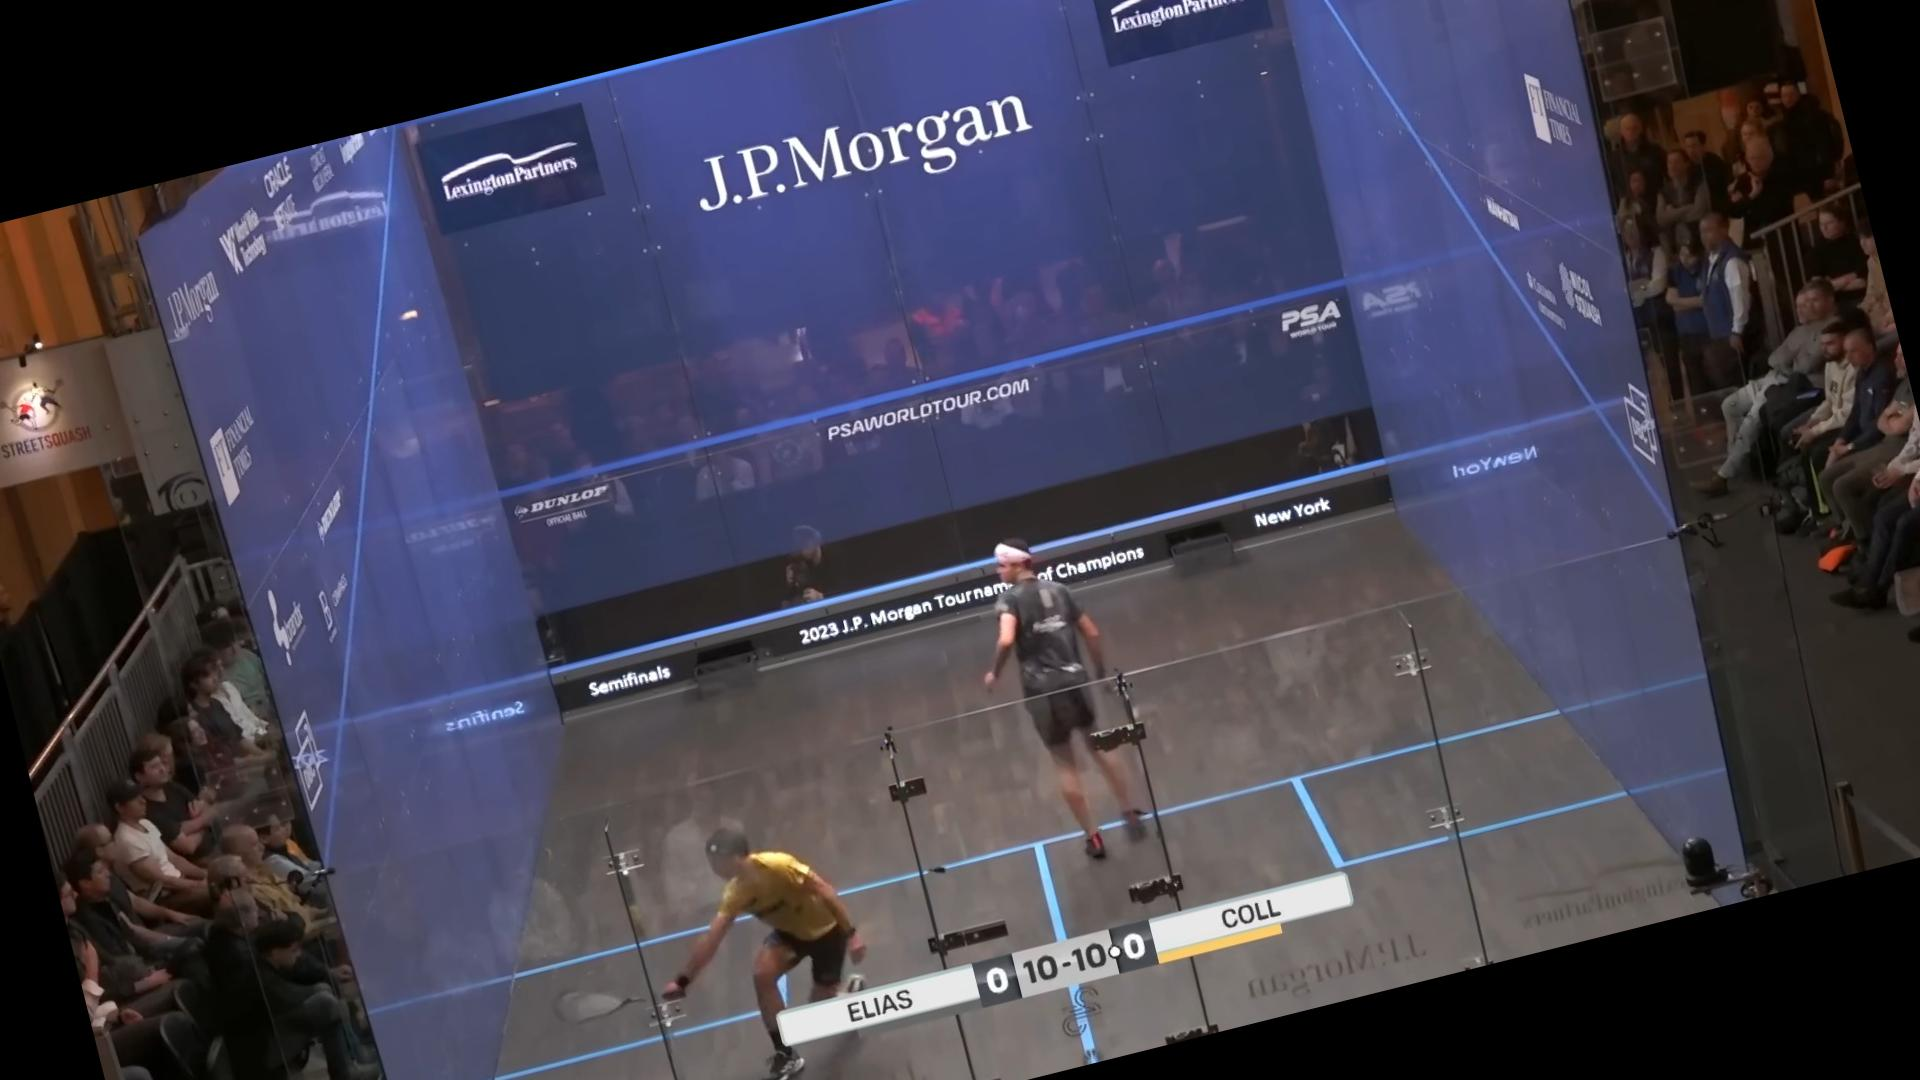Racket: (543, 952, 687, 1043)
